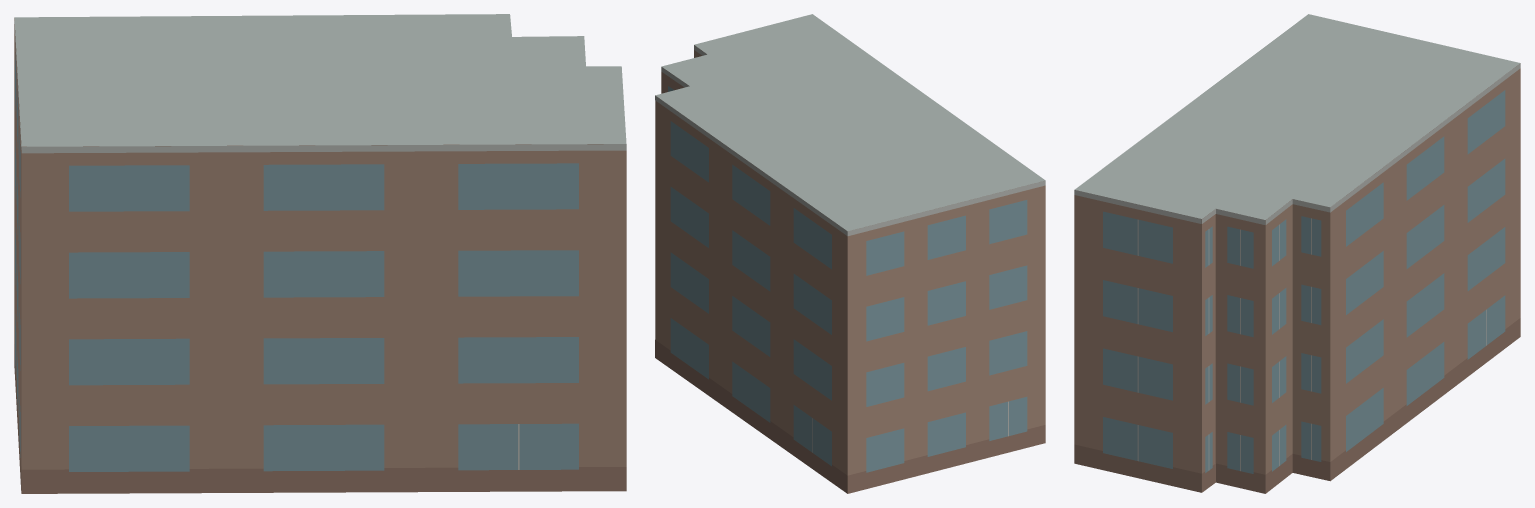
File: survey-upis-32711043.glb
The picture shows the model from 3 angles, left to right: view 1: azimuth 30°, elevation 25°; view 2: azimuth 150°, elevation 25°; view 3: azimuth 270°, elevation 25°; orthographic projection. The views are drawn at different scales.
Visible parts, largest first — view 1: survey-upis-32711043.tmp; view 2: survey-upis-32711043.tmp; view 3: survey-upis-32711043.tmp.
Boxes of the visible parts, bbox=[...] form: survey-upis-32711043.tmp: bbox=[14, 14, 626, 493]; survey-upis-32711043.tmp: bbox=[655, 14, 1045, 493]; survey-upis-32711043.tmp: bbox=[1074, 14, 1520, 493].
Bounding box in the file's own units: 20.84 × 12.9 × 19.06.
